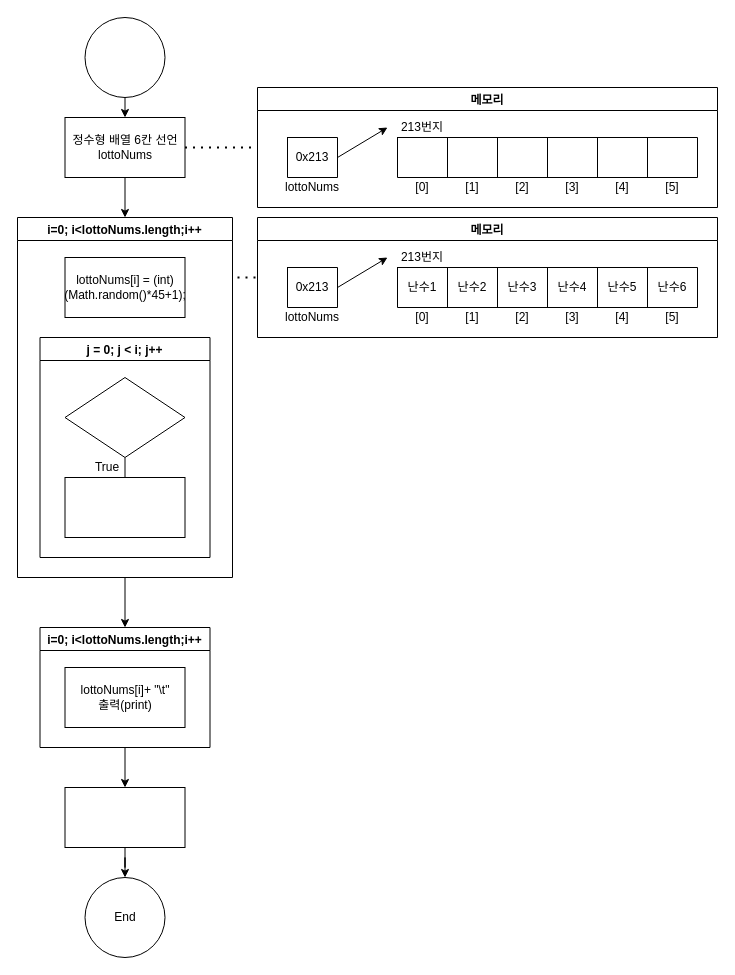
The diagram is 735 pixels wide and 975 high, and some of its shapes have lost their labels. The centre of each missing label's shape, as x and y in pixels:
"" 출력(println): [124,817]
i--;: [124,507]
lottoNums[i] == lottoNums[j] ?: [124,417]
Start: [124,57]
